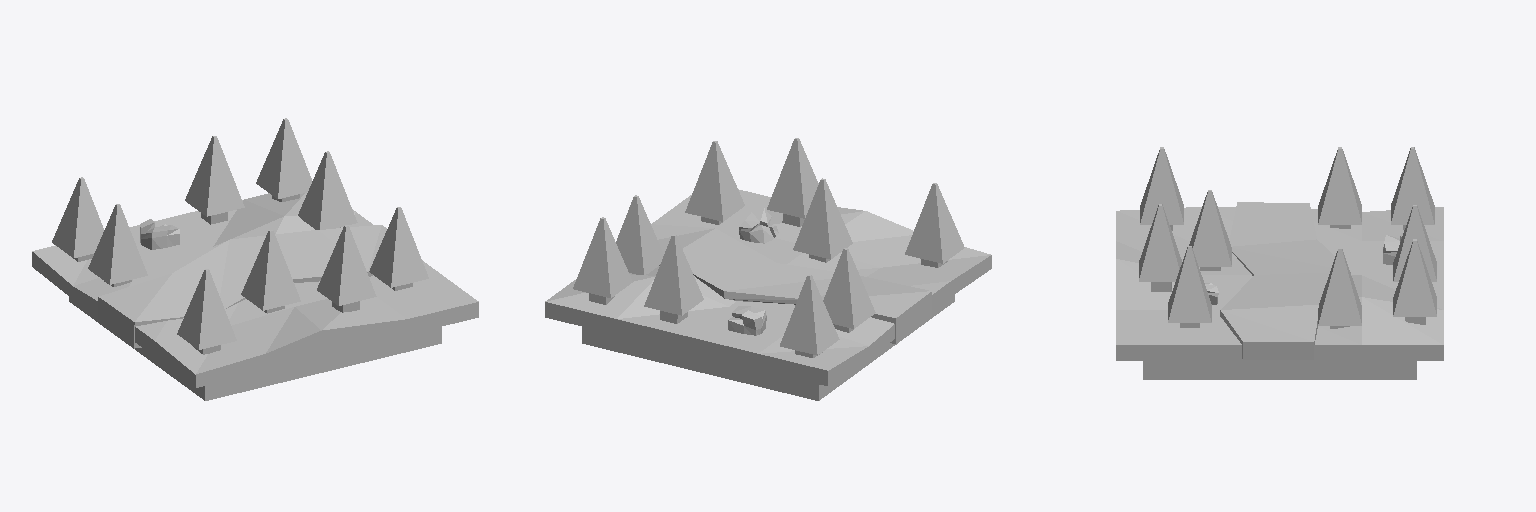
The model's file is Lake scenery.obj.
The picture shows the model from 3 angles: view 1: azimuth 30°, elevation 25°; view 2: azimuth 150°, elevation 25°; view 3: azimuth 270°, elevation 25°; orthographic projection.
Visible parts, largest first — view 1: Cube.001, Cube.010, Cube, Cube.002; view 2: Cube.001, Cube.010, Cube, Cube.003, Cube.002; view 3: Cube.001, Cube.010, Cube.
Boxes of the visible parts, <box> form: Cube.001: <box>32,192,478,400</box>; Cube.010: <box>52,118,428,354</box>; Cube: <box>98,225,386,348</box>; Cube.002: <box>140,219,179,249</box>; Cube.001: <box>545,189,991,400</box>; Cube.010: <box>573,138,964,357</box>; Cube: <box>651,224,931,344</box>; Cube.003: <box>739,208,778,243</box>; Cube.002: <box>728,306,766,335</box>; Cube.001: <box>1116,207,1443,379</box>; Cube.010: <box>1139,147,1436,328</box>; Cube: <box>1220,202,1350,359</box>.
Size of the model in its own units: 9.67 by 4.28 by 9.57.